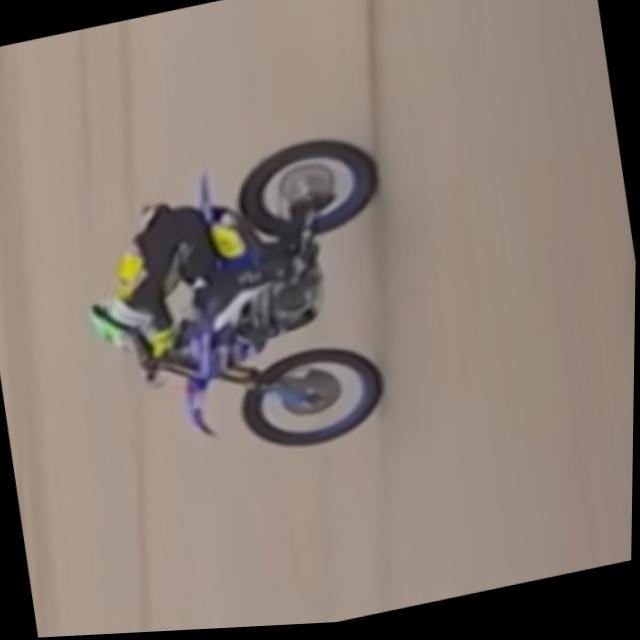WITH_HELMET: (81, 289, 155, 375)
normal: (55, 122, 423, 511)
